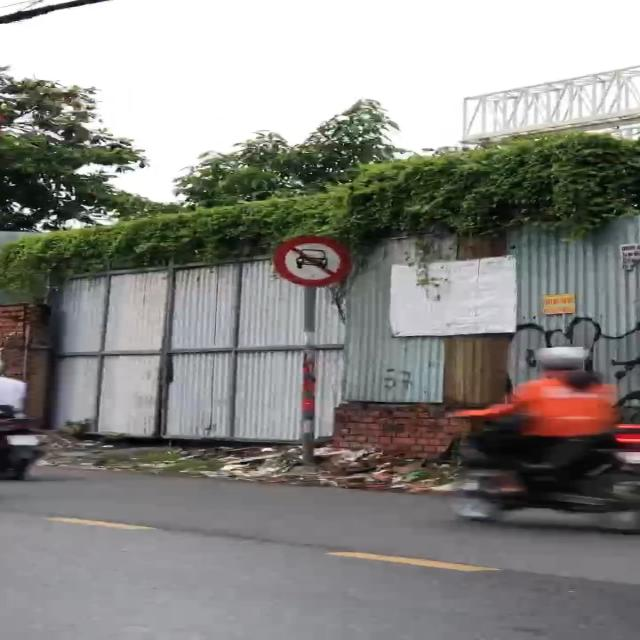Bien bao cam xe oto: (264, 232, 357, 287)
